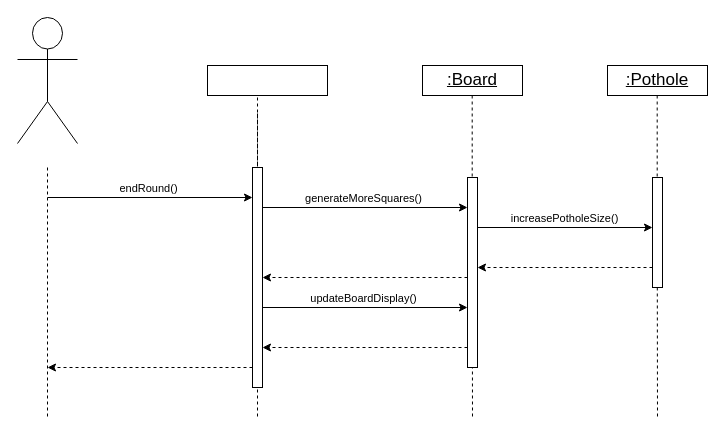
This 725x436 diagram has some shape labels left out. The centre of each missing label's shape, as x and y in pixels:
:GameSystem: point (267, 80)
:Player: point (47, 80)
